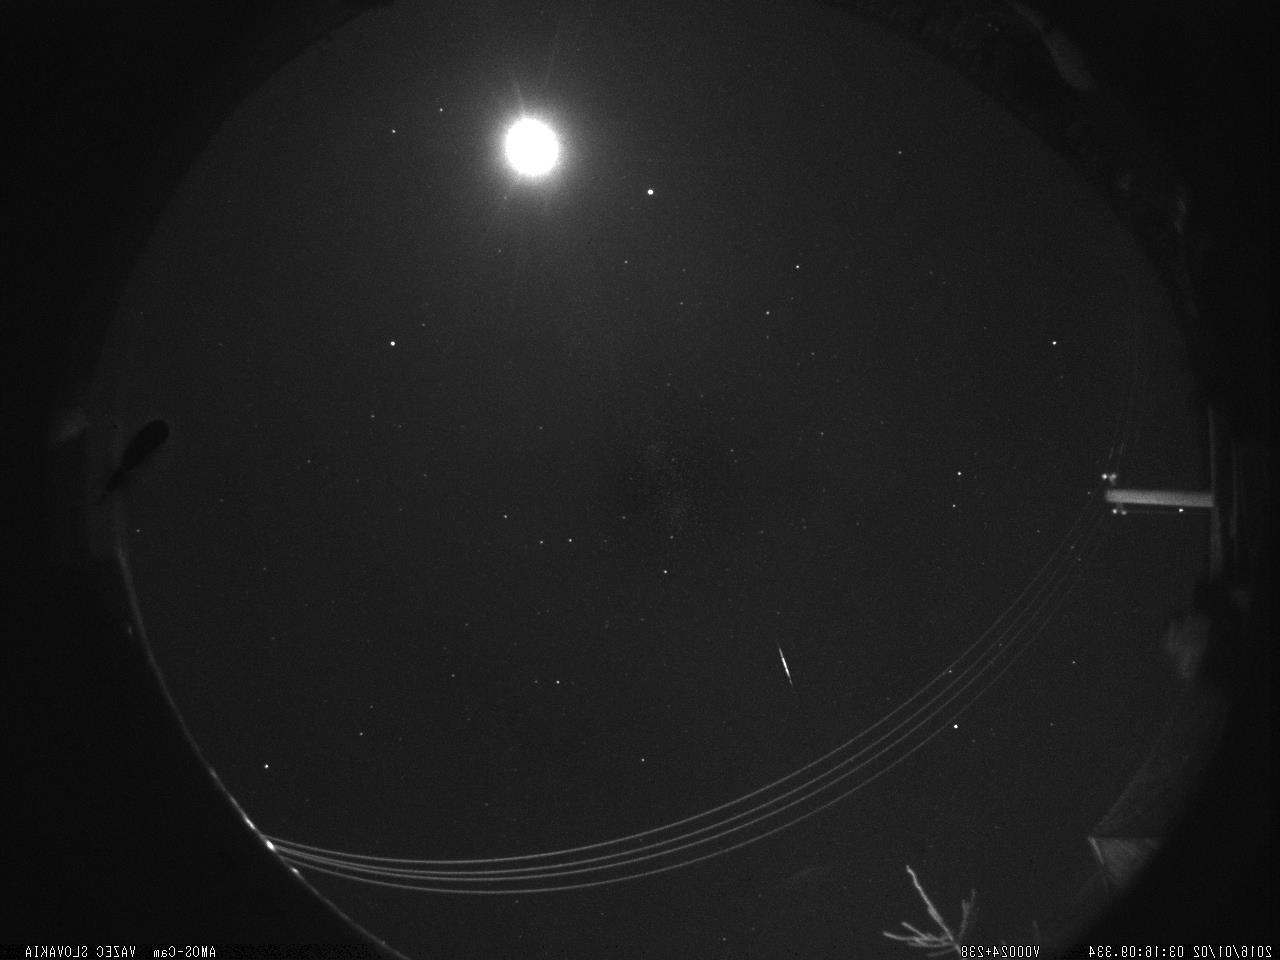meteor: (765, 633, 812, 693)
